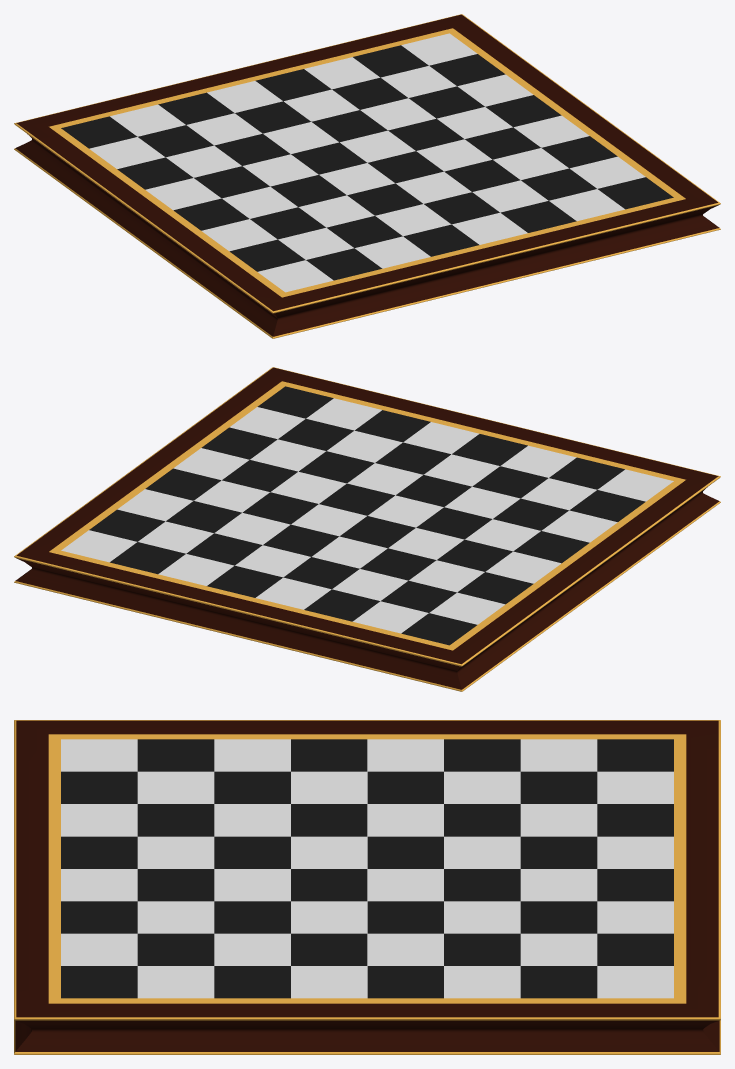
File: tahta_usta.glb
The picture shows the model from 3 angles, top to bottom: view 1: azimuth 30°, elevation 25°; view 2: azimuth 150°, elevation 25°; view 3: azimuth 270°, elevation 25°; orthographic projection. The views are drawn at different scales.
Visible parts, largest first — view 1: t0, t1, t3, t2; view 2: t1, t0, t3, t2; view 3: t0, t1, t3, t2.
Boxes of the visible parts, x1,y1,x2,y2 form: t0: (89, 33, 645, 292); t1: (61, 45, 673, 280); t3: (15, 14, 719, 336); t2: (14, 14, 720, 338); t1: (89, 386, 645, 645); t0: (61, 398, 673, 633); t3: (15, 367, 719, 689); t2: (14, 367, 720, 691); t0: (61, 739, 673, 998); t1: (61, 739, 673, 998); t3: (15, 720, 719, 1051); t2: (14, 720, 720, 1054).
Size of the model in its own units: 9.23 by 0.5345 by 9.23.
